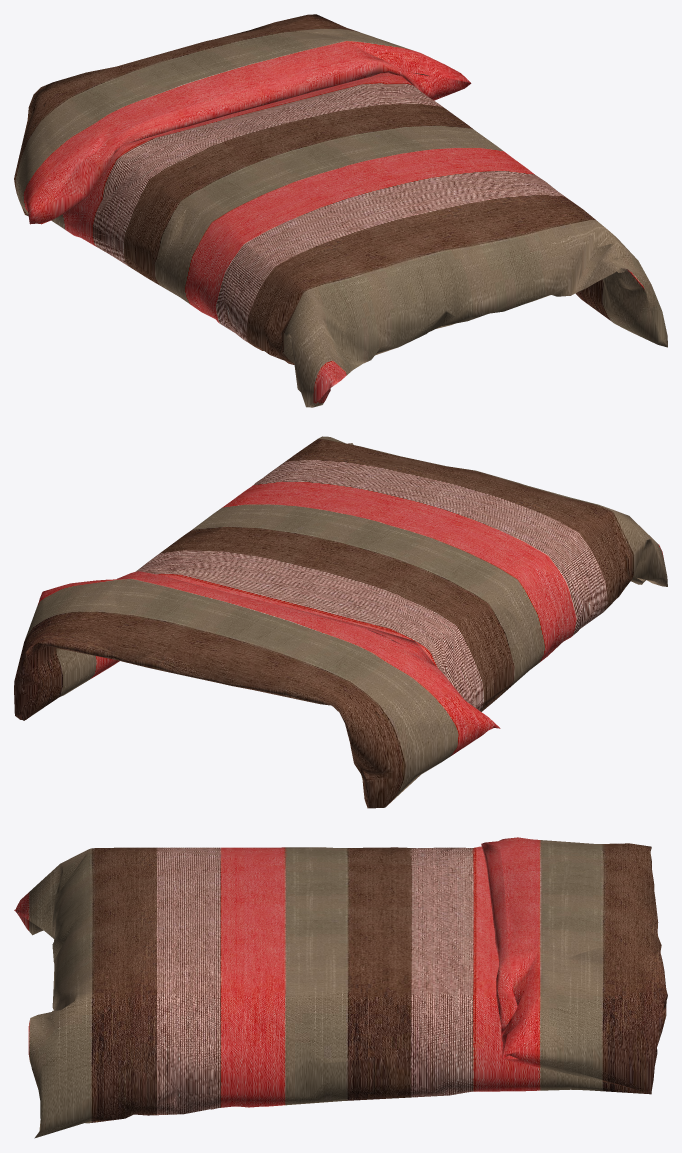
Rendered from Blanket.FBX.
3 views of the same model, one above another, from view 1: azimuth 30°, elevation 25°; view 2: azimuth 150°, elevation 25°; view 3: azimuth 270°, elevation 25° (orthographic). The views are drawn at different scales.
Parts seen in each view (by area): view 1: blanket; view 2: blanket; view 3: blanket.
Boxes of the visible parts, x1,y1,x2,y2 form: blanket: (14, 14, 667, 407); blanket: (14, 436, 667, 808); blanket: (14, 837, 667, 1138).
Bounding box in the file's own units: 133 × 41.87 × 163.
1 material, 1 textured.
